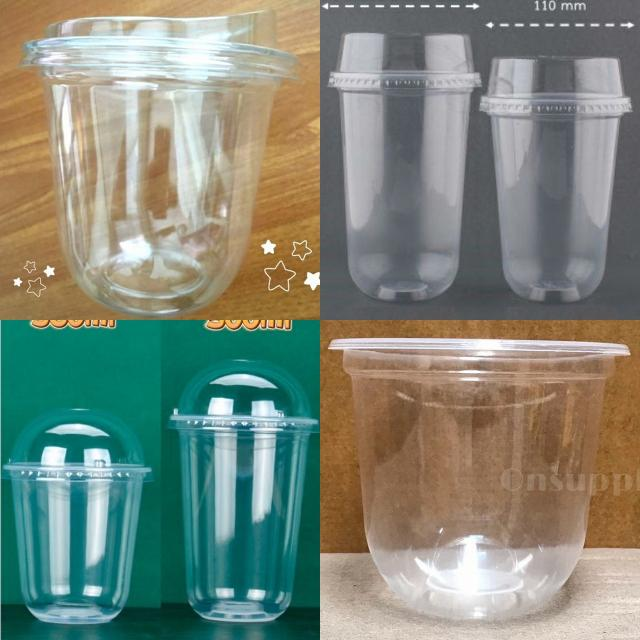Single-Use-Plastic: (22, 11, 296, 316), (330, 339, 628, 619), (329, 32, 481, 301), (170, 360, 318, 622), (480, 58, 631, 302), (4, 409, 151, 624)
